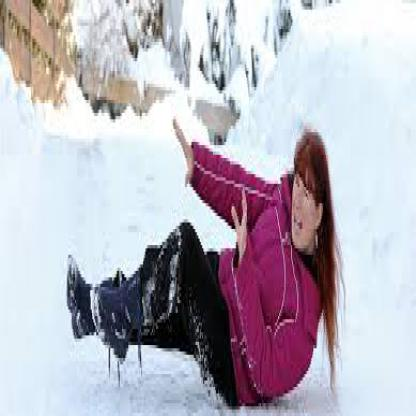Fall_Down: (66, 118, 336, 413)
